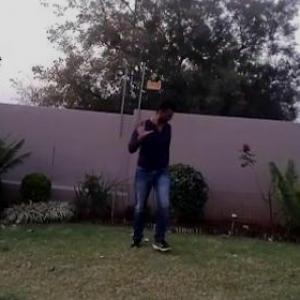follow_hand: (128, 112, 154, 142)
